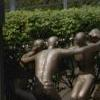Statue: (12, 29, 100, 98)
